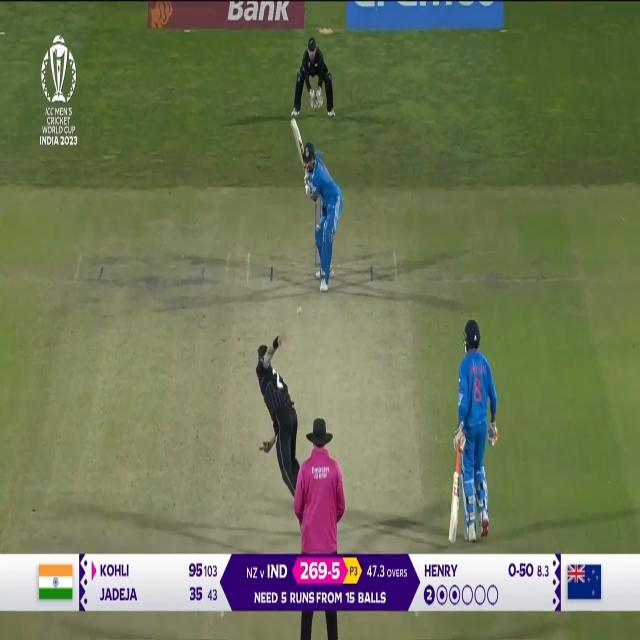ball: (292, 302, 306, 321)
